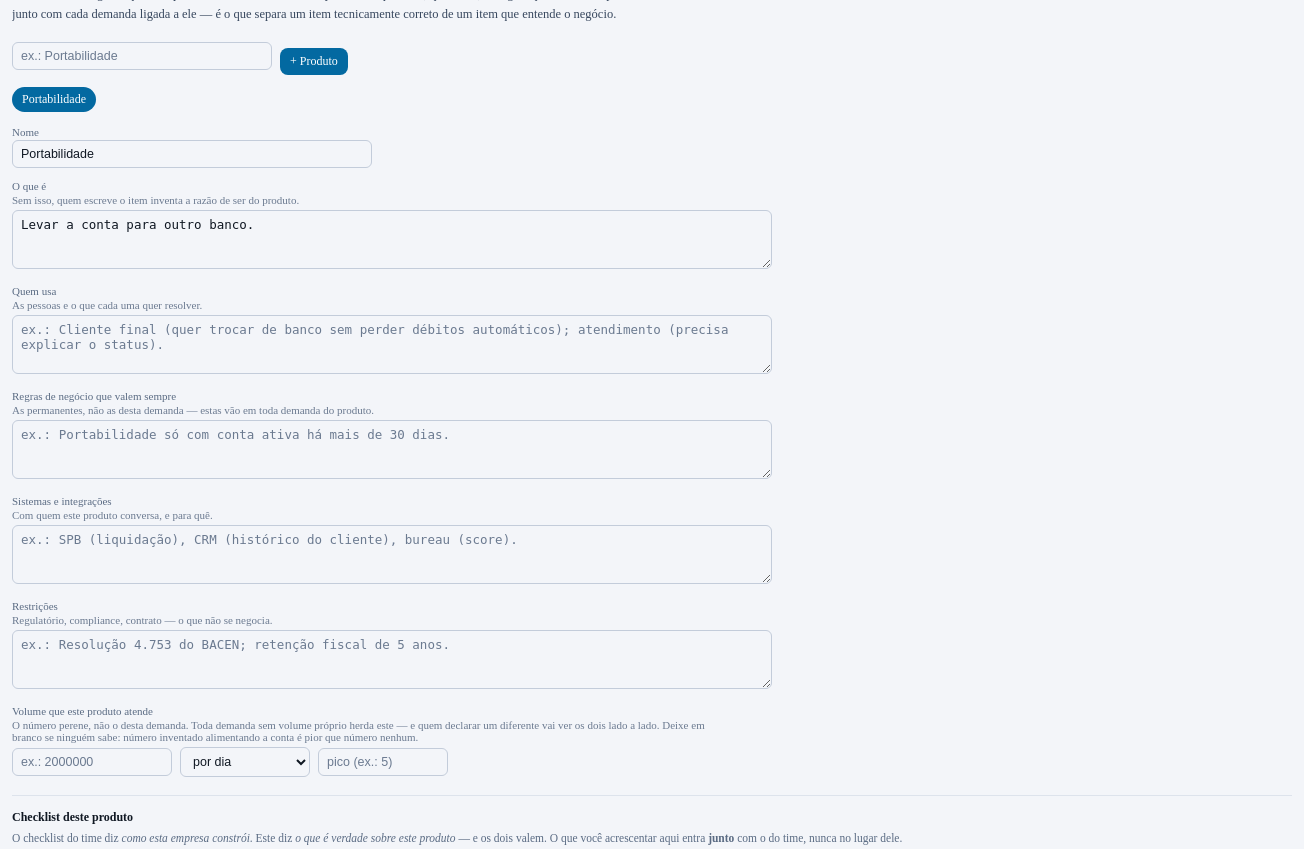
ProdutosTab (SPEC-53 Fase 1) › salvar manda as seções, e a tela confirma — sem confirmação ninguém sabe se pegou
The width and height of the screenshot is (1304, 849).
Type "Resolução 4.753 do BACEN." into the text box named "Restrições". click: (392, 660)
box: [12,630,772,689]
(page scrolled)
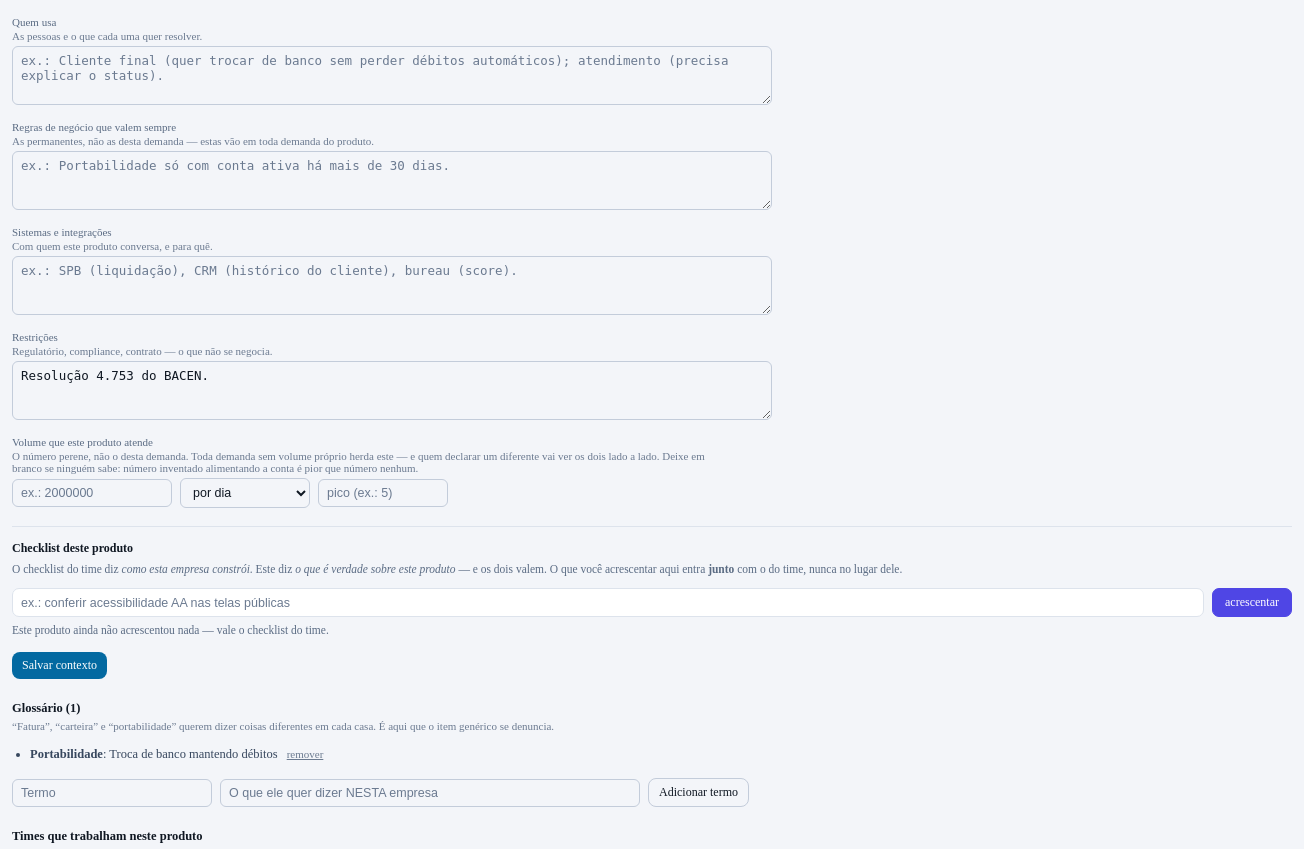
Click the button with test id "salvar-produto". click: (60, 665)
box: [12,652,107,679]
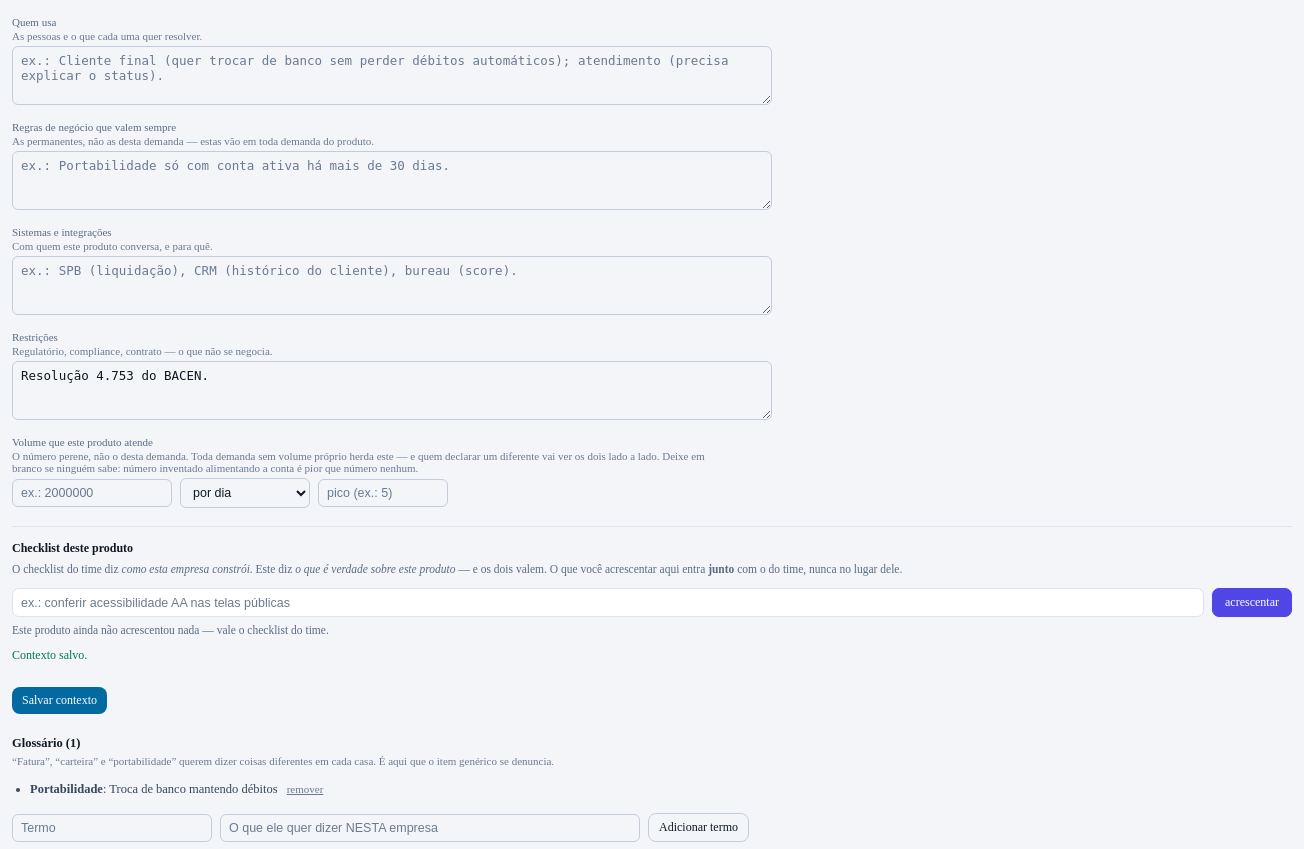
Result: the text "Contexto salvo." is shown at [12,648,87,662]
